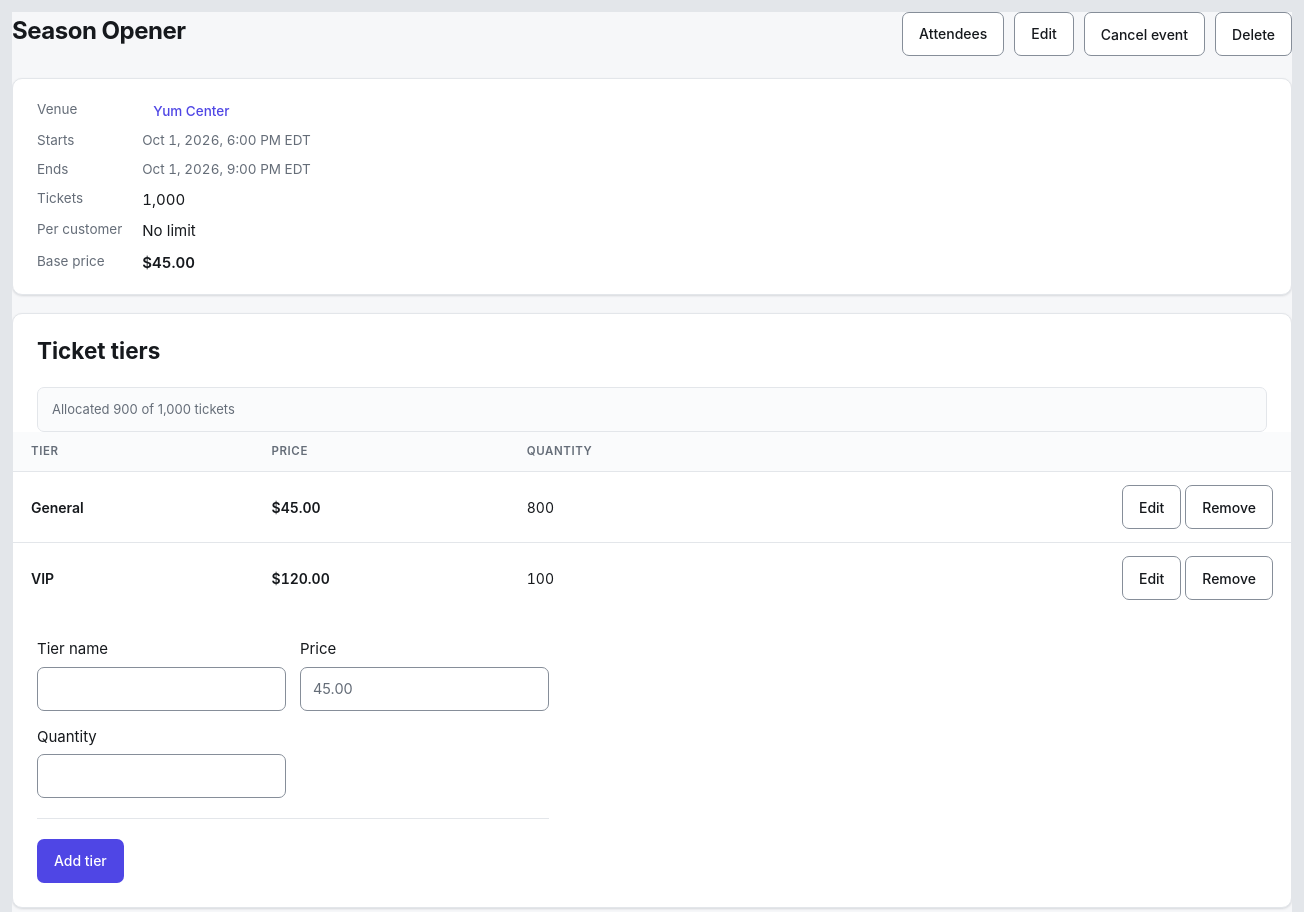
Ticket tiers on the event page › removes a tier only after the admin confirms
The image size is (1304, 912).
Click the button "Remove" in the row of "VIP". click: point(1229, 578)
box: [1185,556,1273,600]
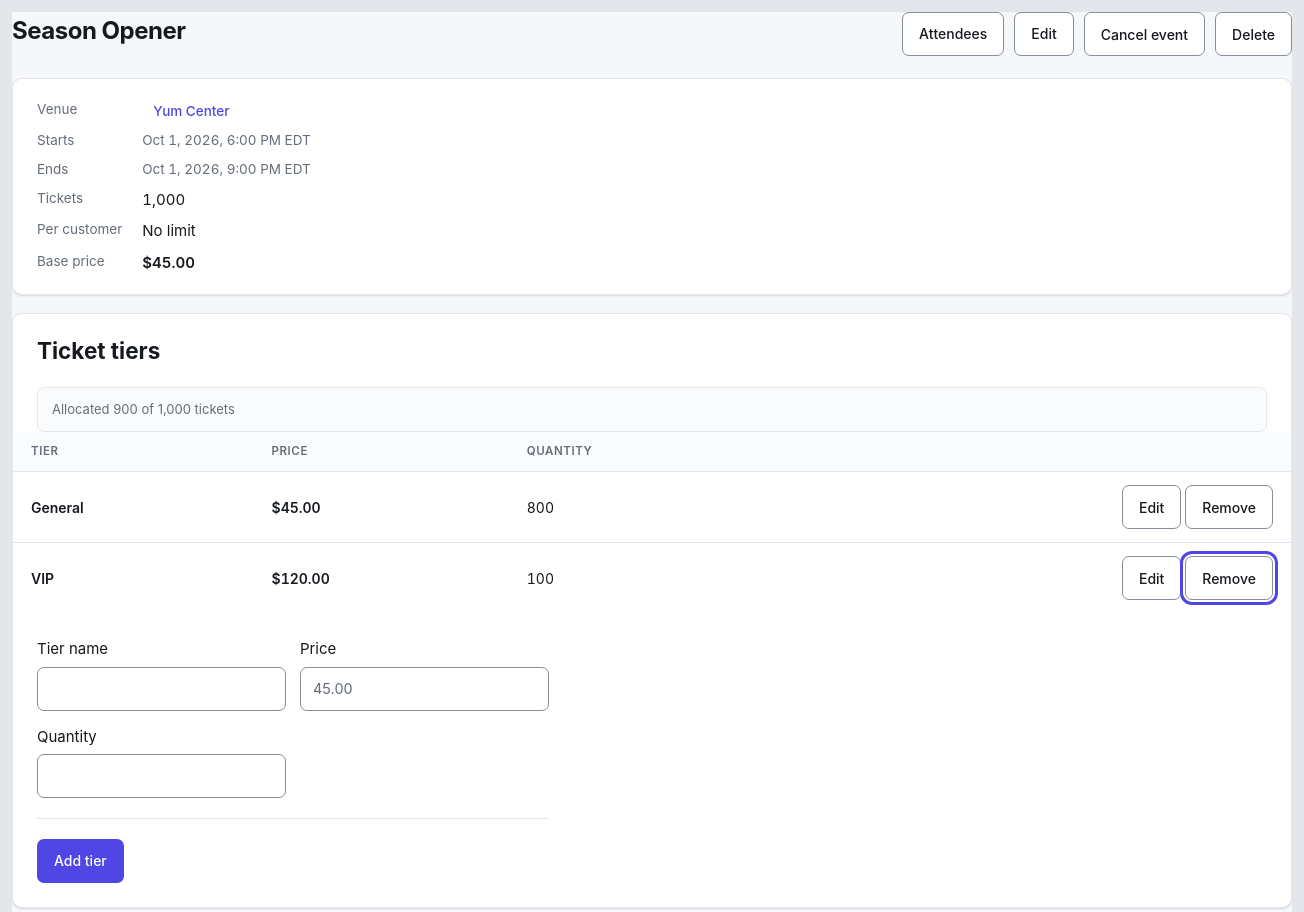
Click the button "Remove" in the row of "VIP". click: point(1229, 578)
box: [1185,556,1273,600]
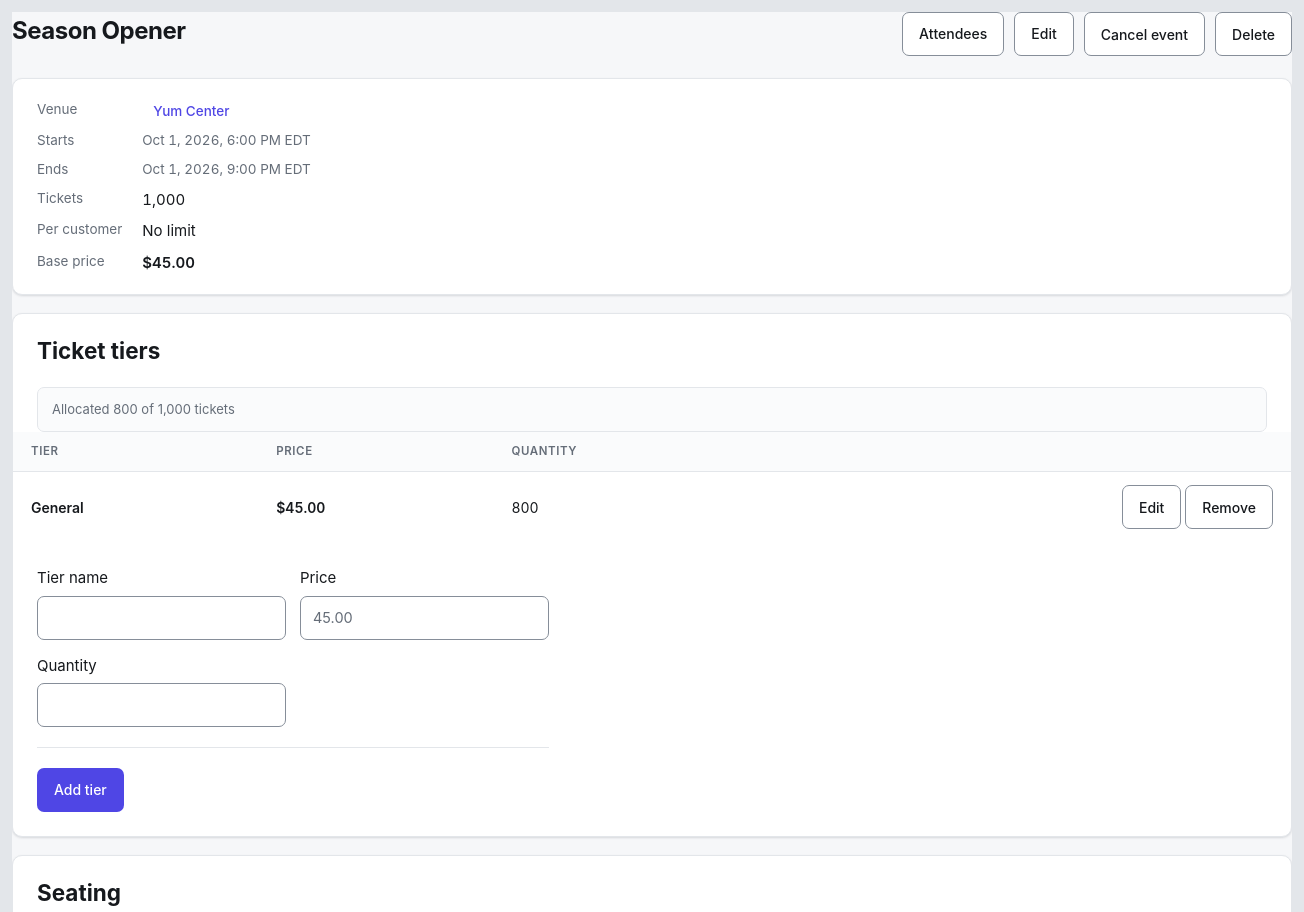
expect the text "VIP" is gone: met
